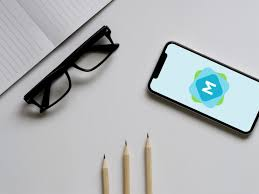Cell Phone: (147, 42, 259, 137)
